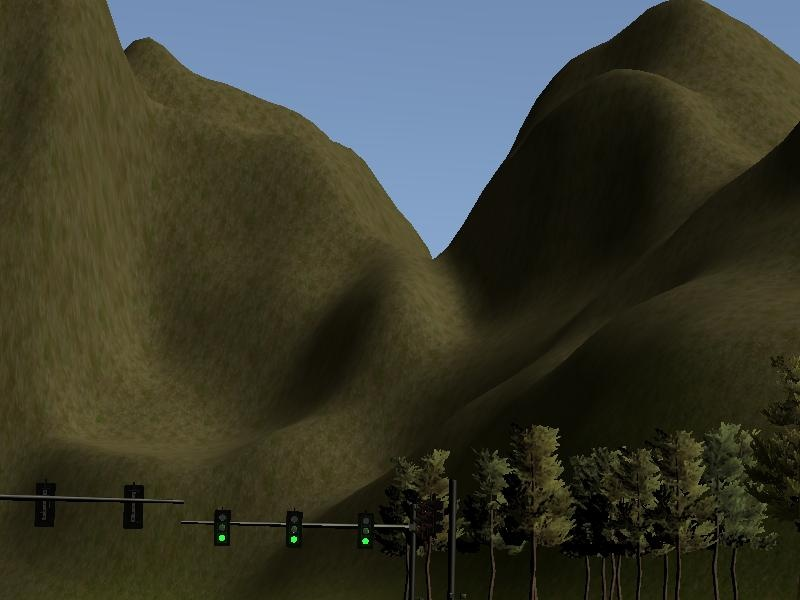green: (355, 511, 374, 552), (213, 508, 232, 548), (285, 509, 304, 549)
